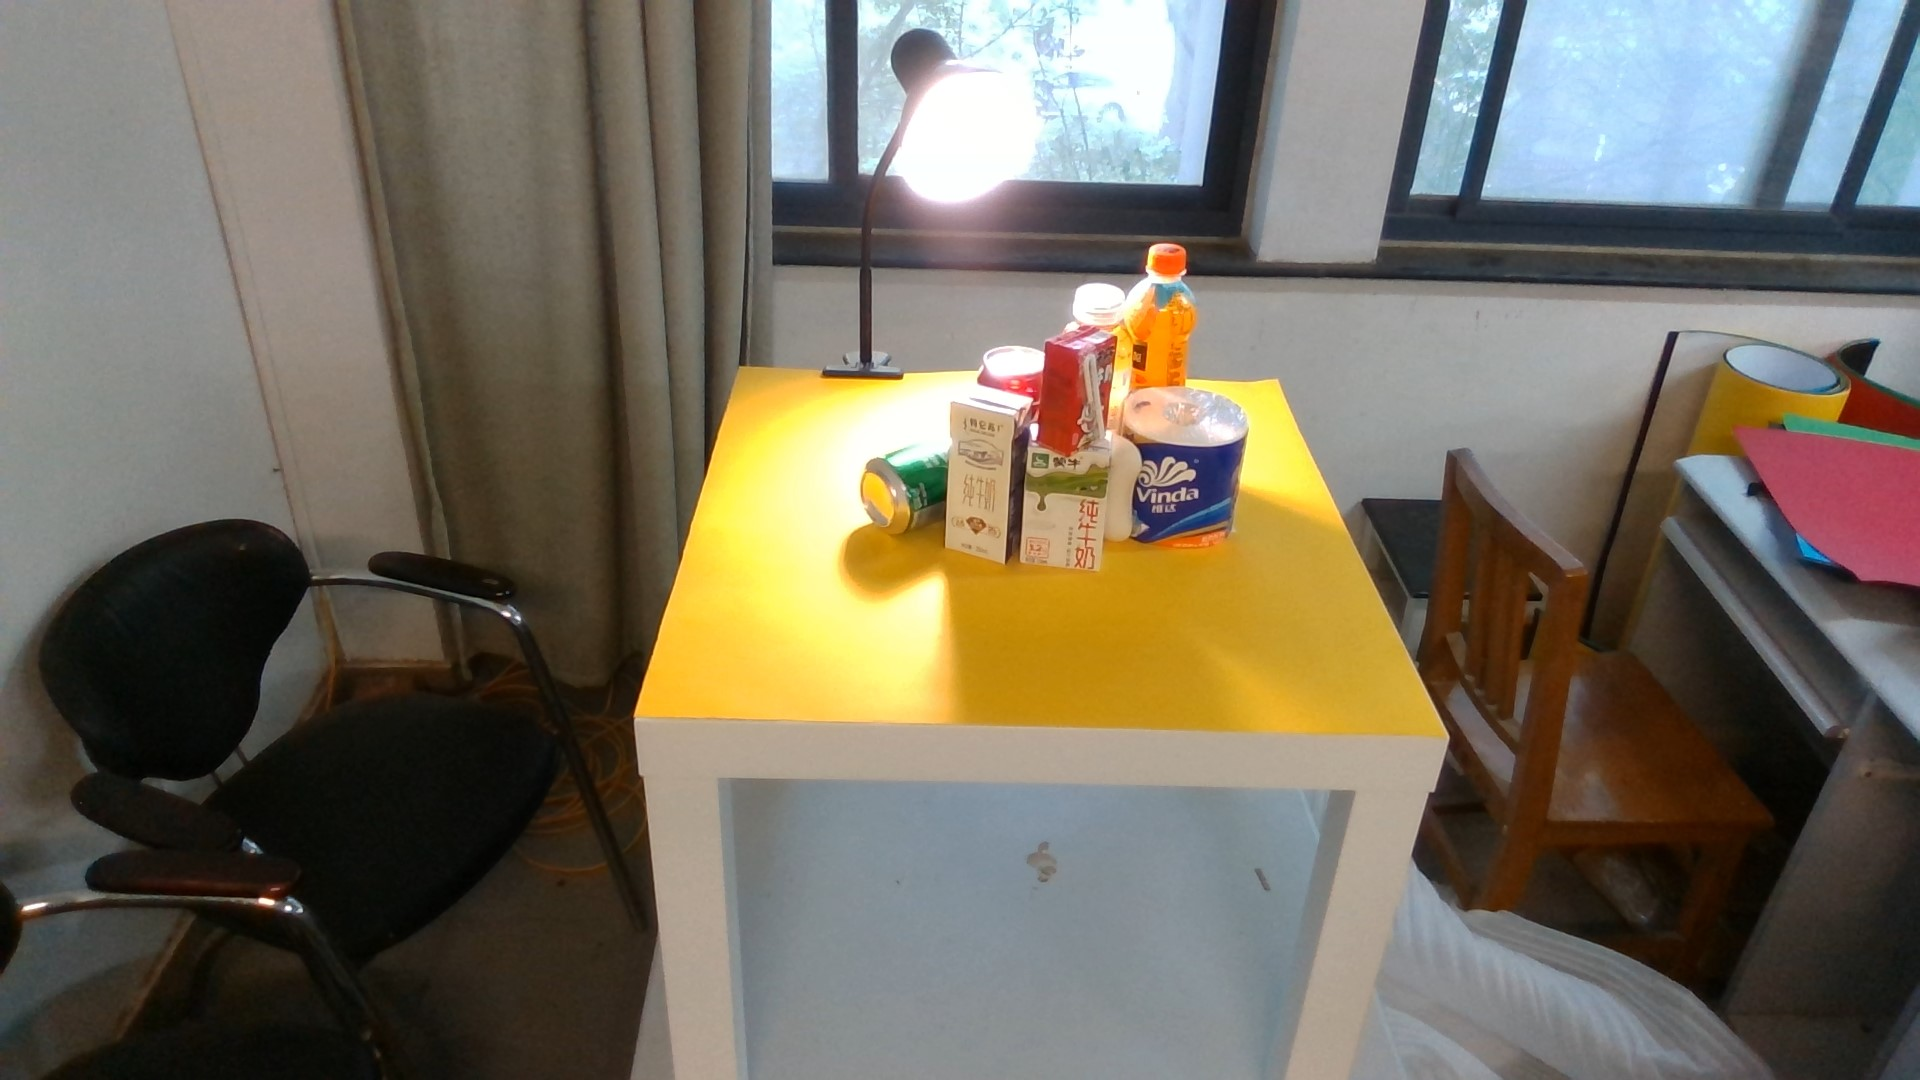BB003: (1109, 429, 1145, 542)
BB009: (1021, 454, 1104, 574)
BB010: (944, 385, 1021, 564)
BB012: (1043, 327, 1120, 455)
CA002: (1150, 388, 1251, 550)
ZC001: (861, 442, 940, 541)
ZC002: (976, 344, 1040, 384)
ZC006: (1129, 241, 1197, 392)
ZC012: (1068, 282, 1125, 328)
